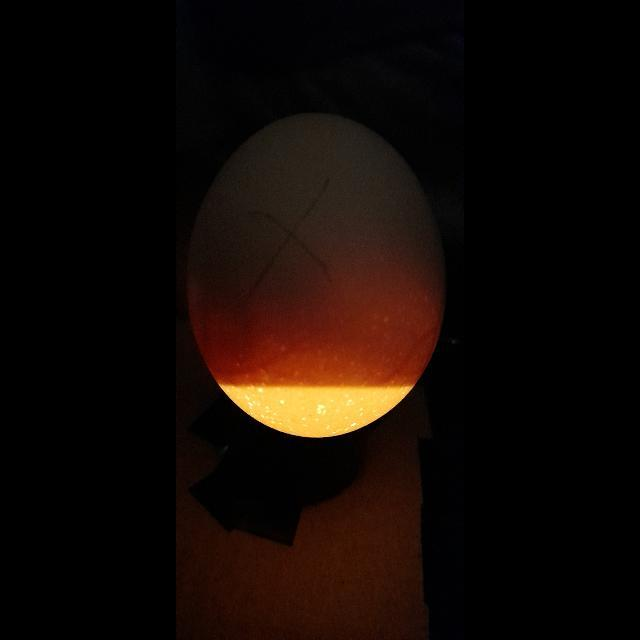Fertile: (188, 102, 450, 438)
